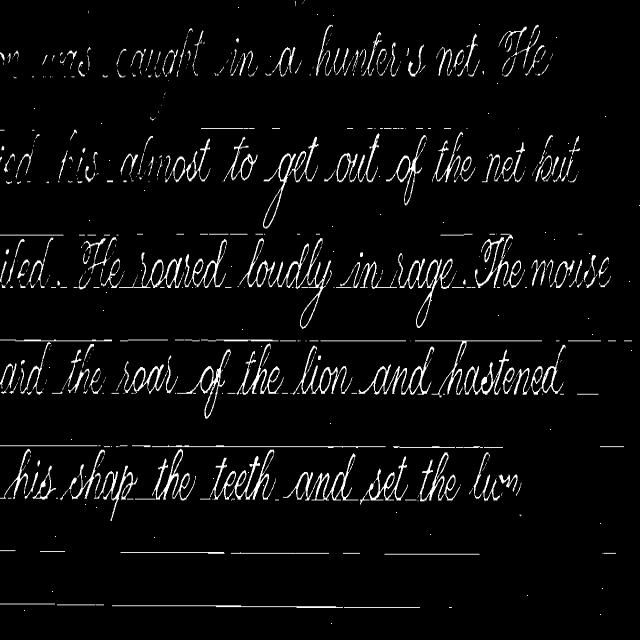noise: (0, 601, 422, 609), (0, 444, 388, 450), (0, 338, 114, 344), (392, 445, 503, 450), (174, 338, 300, 342), (384, 551, 480, 556), (120, 549, 226, 553), (415, 340, 543, 343), (0, 232, 66, 237), (230, 552, 330, 555), (440, 229, 474, 237), (346, 124, 377, 131), (200, 232, 250, 236), (576, 390, 599, 398), (120, 339, 170, 342), (416, 127, 452, 131), (601, 548, 617, 556), (40, 549, 65, 554), (268, 125, 286, 131), (310, 340, 406, 341), (600, 443, 624, 447), (77, 232, 100, 236), (576, 228, 584, 238), (0, 548, 16, 553), (0, 121, 6, 132), (568, 340, 602, 341), (102, 232, 110, 236), (176, 233, 186, 236), (136, 232, 144, 235)
not-noise: (0, 128, 478, 188), (114, 26, 498, 77), (241, 340, 565, 396), (59, 339, 258, 419), (237, 236, 332, 330), (61, 448, 198, 504), (476, 234, 609, 288), (357, 446, 463, 502), (480, 136, 579, 183), (389, 259, 456, 328), (136, 240, 226, 287), (200, 450, 276, 500), (286, 453, 355, 499), (496, 26, 553, 77), (0, 236, 54, 287), (2, 449, 56, 500), (0, 343, 51, 394), (467, 452, 521, 500), (78, 236, 126, 289), (40, 47, 110, 76), (334, 262, 387, 288), (0, 48, 33, 84), (158, 80, 172, 114), (463, 277, 468, 287)
